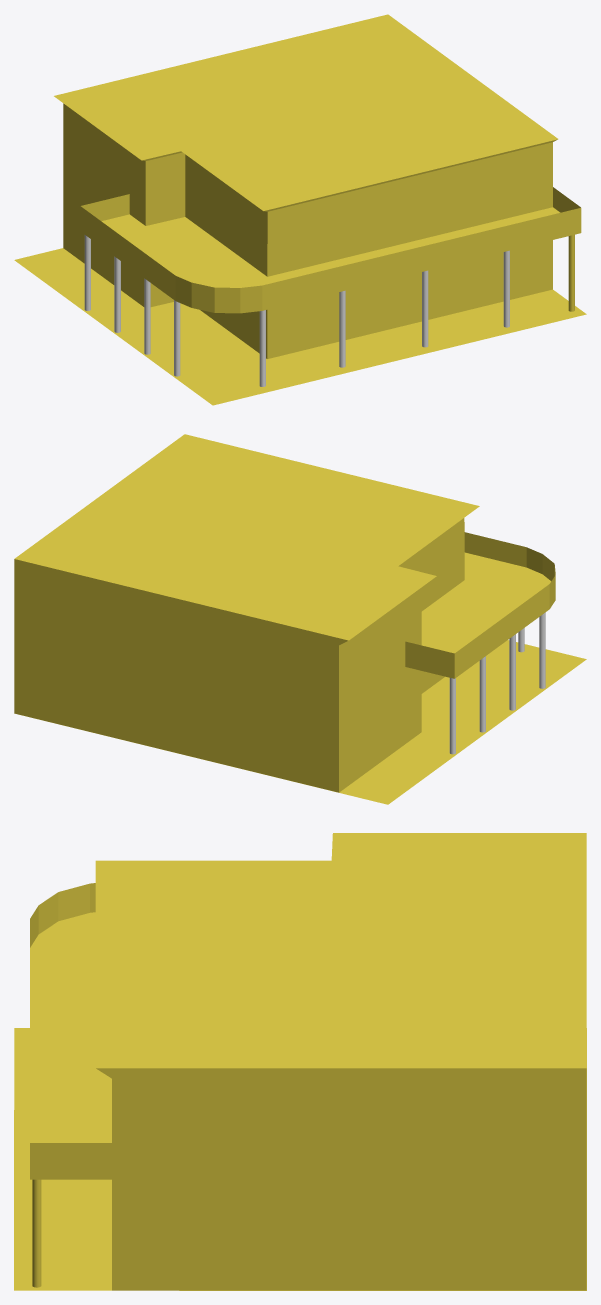
Rendered from hotel_05_28_24_linked_to_town_exterior.glb.
The picture shows the model from 3 angles, top to bottom: view 1: azimuth 30°, elevation 25°; view 2: azimuth 150°, elevation 25°; view 3: azimuth 270°, elevation 25°; orthographic projection. The views are drawn at different scales.
Parts seen in each view (by area): view 1: Hotel-col, Piller_3_R, Piller_1_R, Piller_4_R, Piller_2_R, Piller_5_R.001, Piller_1_L, Piller_2_L, Piller_3_L, Piller_4_L; view 2: Hotel-col, Piller_4_L, Piller_1_L, Piller_2_L, Piller_3_L; view 3: Hotel-col, Piller_1_R.
Part boxes in pixels (x1,y1,x2,y2): Hotel-col: [14, 14, 586, 405]; Piller_3_R: [422, 270, 428, 347]; Piller_1_R: [568, 234, 574, 311]; Piller_4_R: [339, 290, 345, 367]; Piller_2_R: [503, 250, 509, 327]; Piller_5_R.001: [259, 310, 265, 386]; Piller_1_L: [174, 300, 180, 376]; Piller_2_L: [144, 278, 150, 354]; Piller_3_L: [114, 256, 120, 332]; Piller_4_L: [84, 235, 90, 310]; Hotel-col: [14, 434, 586, 804]; Piller_4_L: [449, 678, 455, 754]; Piller_1_L: [539, 612, 545, 688]; Piller_2_L: [509, 634, 515, 710]; Piller_3_L: [479, 656, 485, 732]; Hotel-col: [14, 833, 586, 1290]; Piller_1_R: [32, 1179, 41, 1287].
Size of the model in its own units: 19.01 by 7.5 by 17.5.
